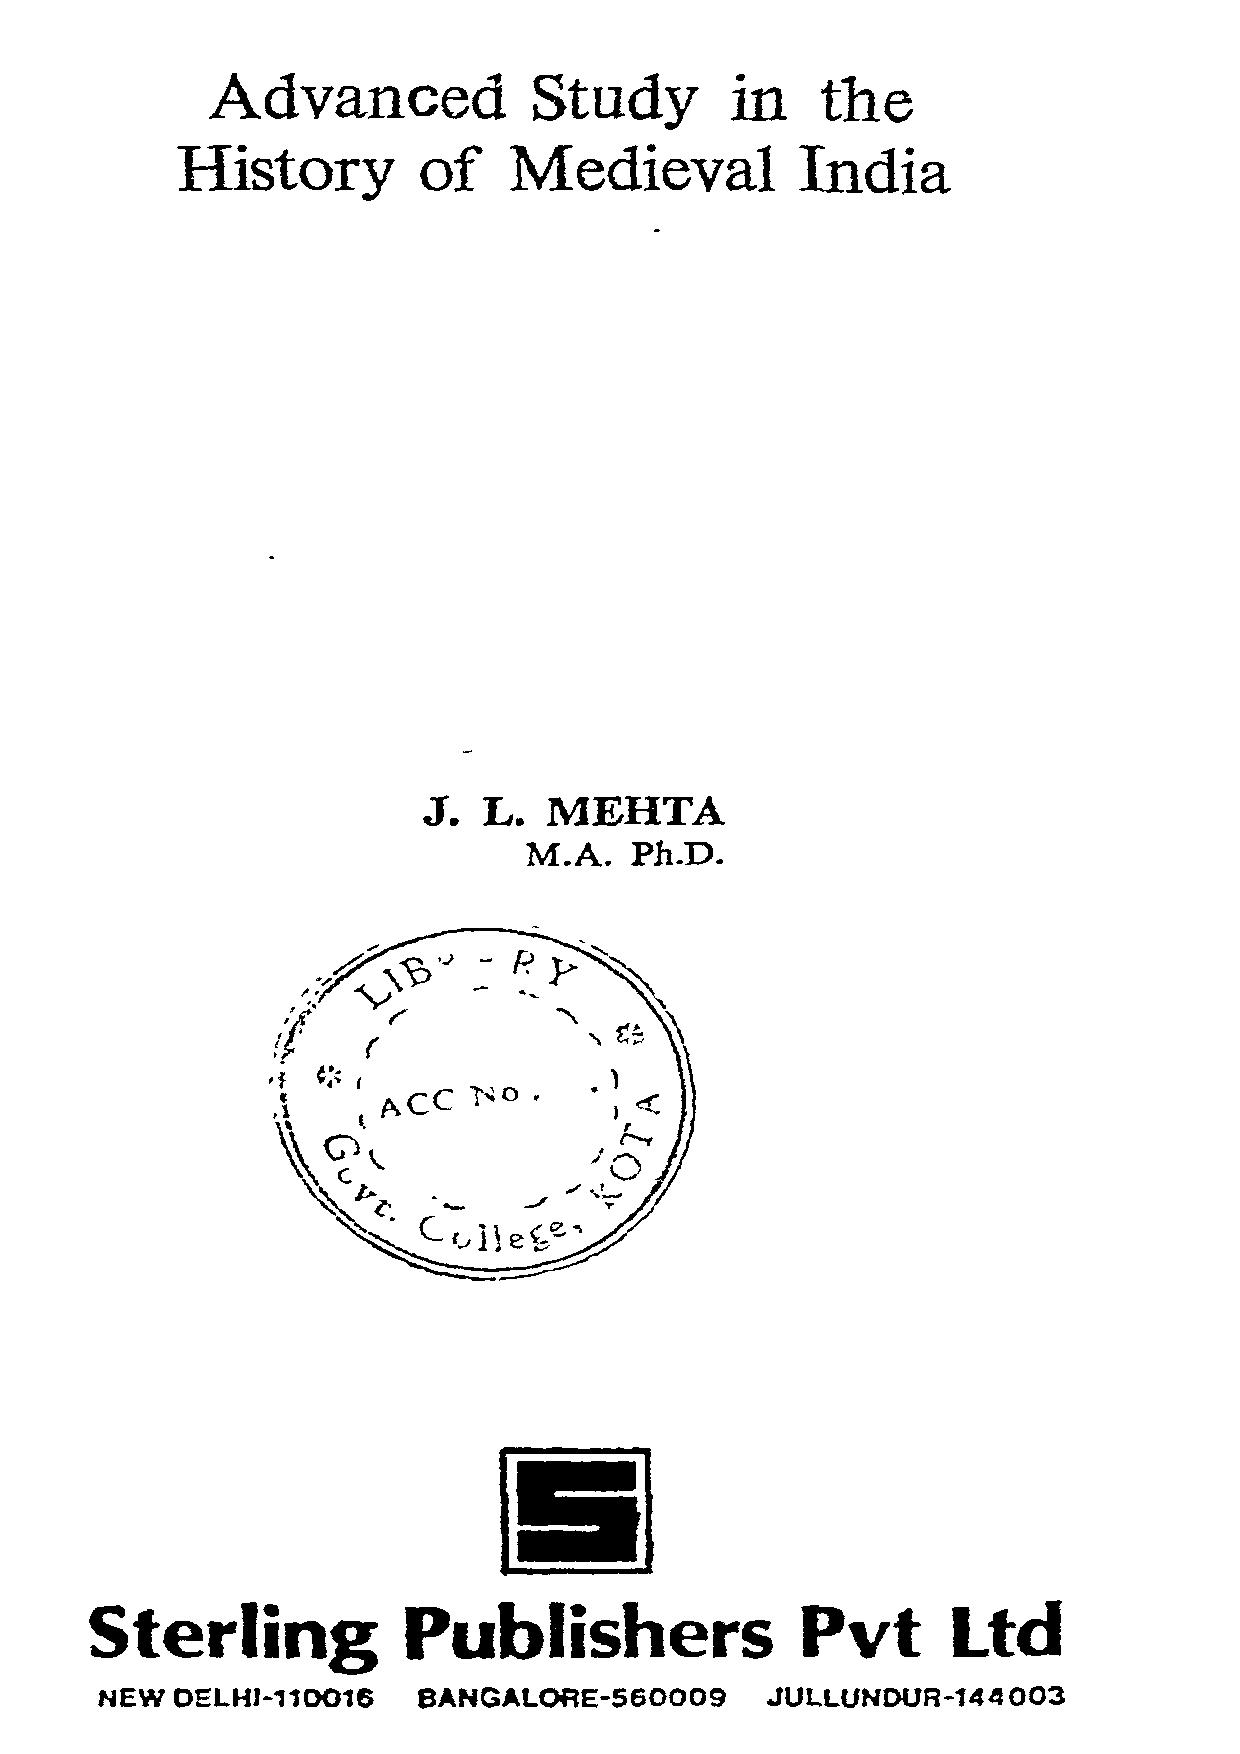author: (421, 789, 727, 870)
title: (176, 71, 951, 196)
